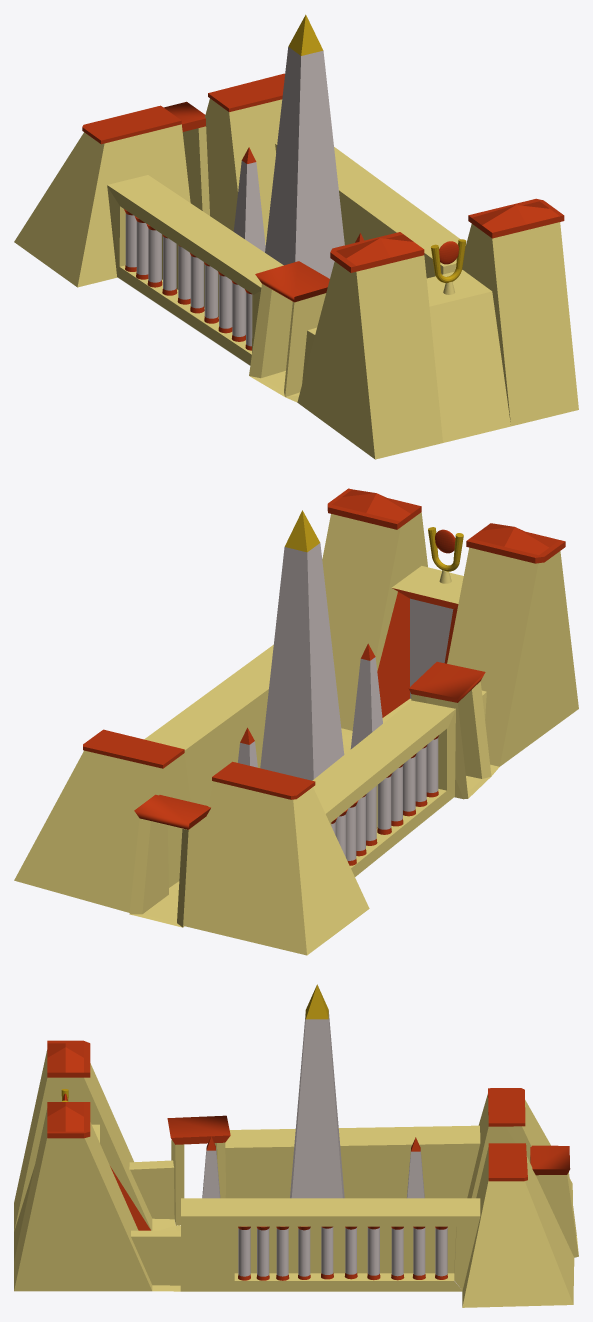
File: Temple.fbx
The picture shows the model from 3 angles, top to bottom: view 1: azimuth 30°, elevation 25°; view 2: azimuth 150°, elevation 25°; view 3: azimuth 270°, elevation 25°; orthographic projection. The views are drawn at different scales.
Parts seen in each view (by area): view 1: Cube_Cube.008; view 2: Cube_Cube.008; view 3: Cube_Cube.008.
Boxes of the visible parts, x1,y1,x2,y2 form: Cube_Cube.008: (14, 14, 578, 459); Cube_Cube.008: (14, 488, 578, 955); Cube_Cube.008: (14, 984, 578, 1307).
Bounding box in the file's own units: 53.64 × 53.16 × 103.
